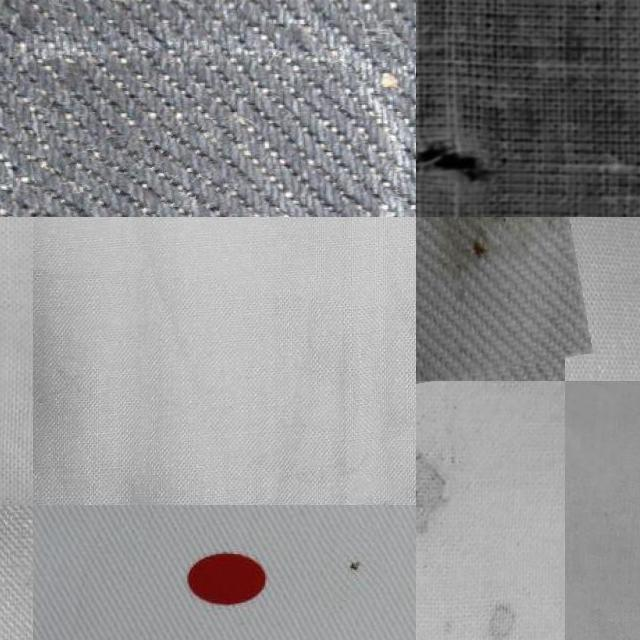Hole: (416, 217, 578, 383), (416, 393, 470, 562), (455, 582, 537, 640), (324, 528, 384, 600)
Thread_other: (45, 125, 263, 217)
seam: (416, 130, 494, 191)
